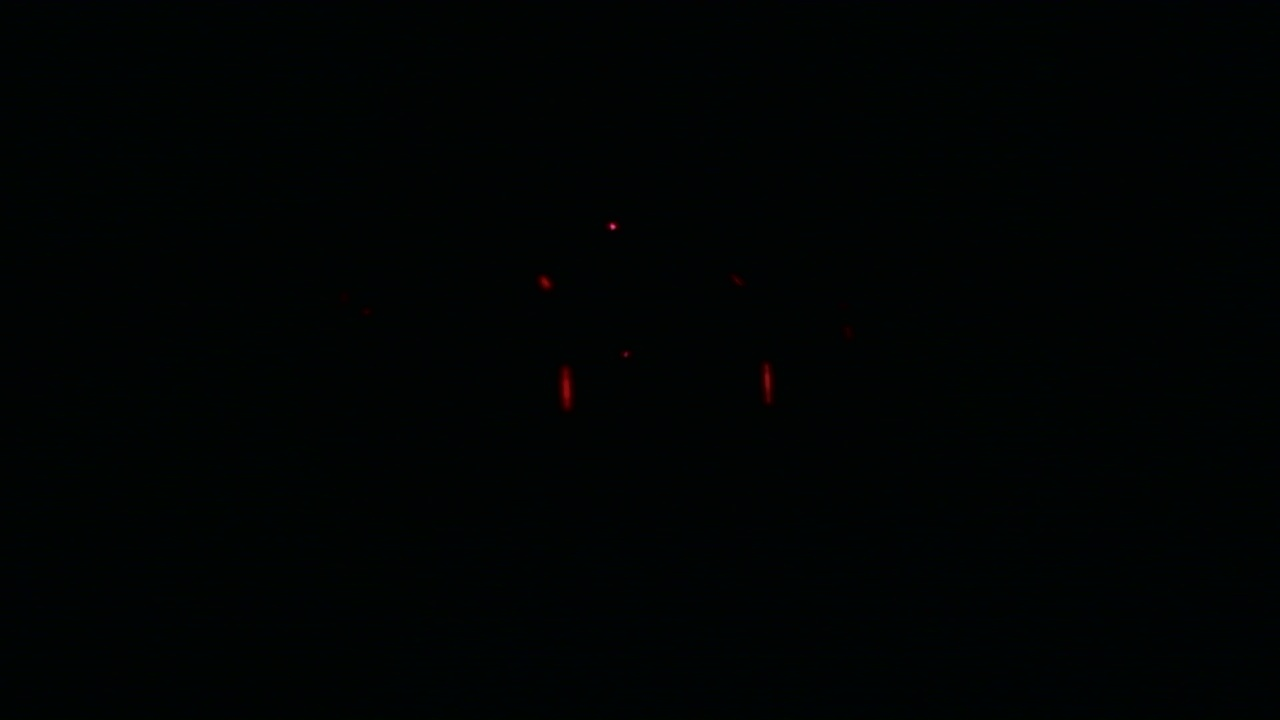lamp: (756, 361, 776, 411), (556, 362, 576, 411)
pair2: (556, 361, 775, 411)
